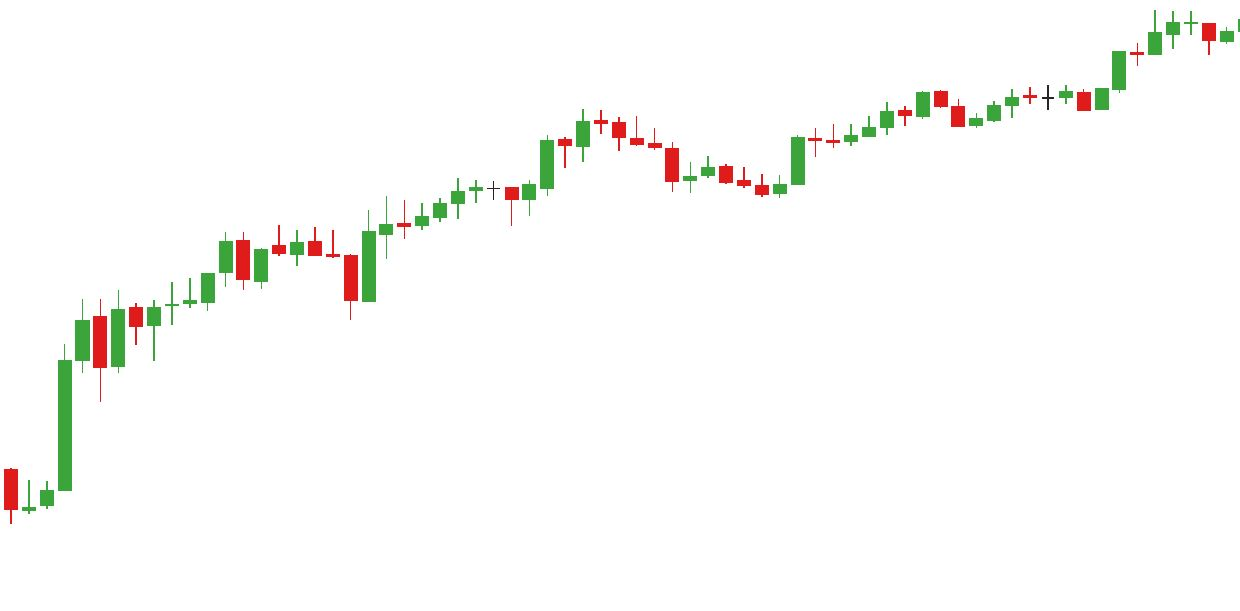buy: (233, 237, 378, 323)
